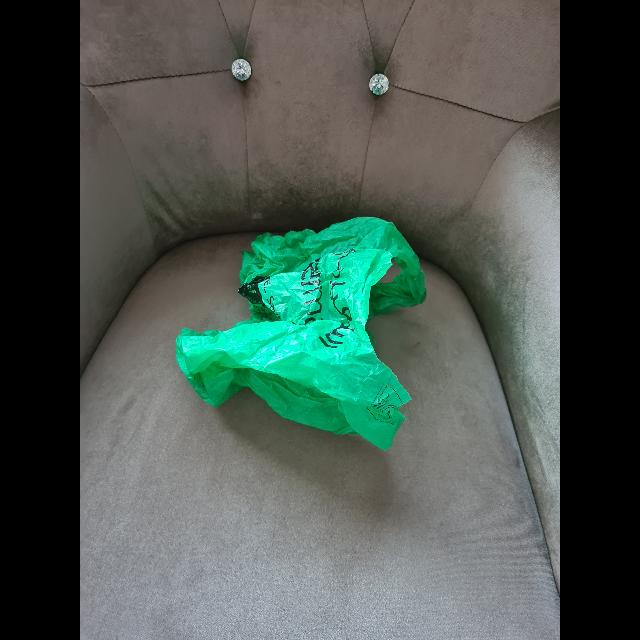plastic_bag: (184, 216, 422, 439)
